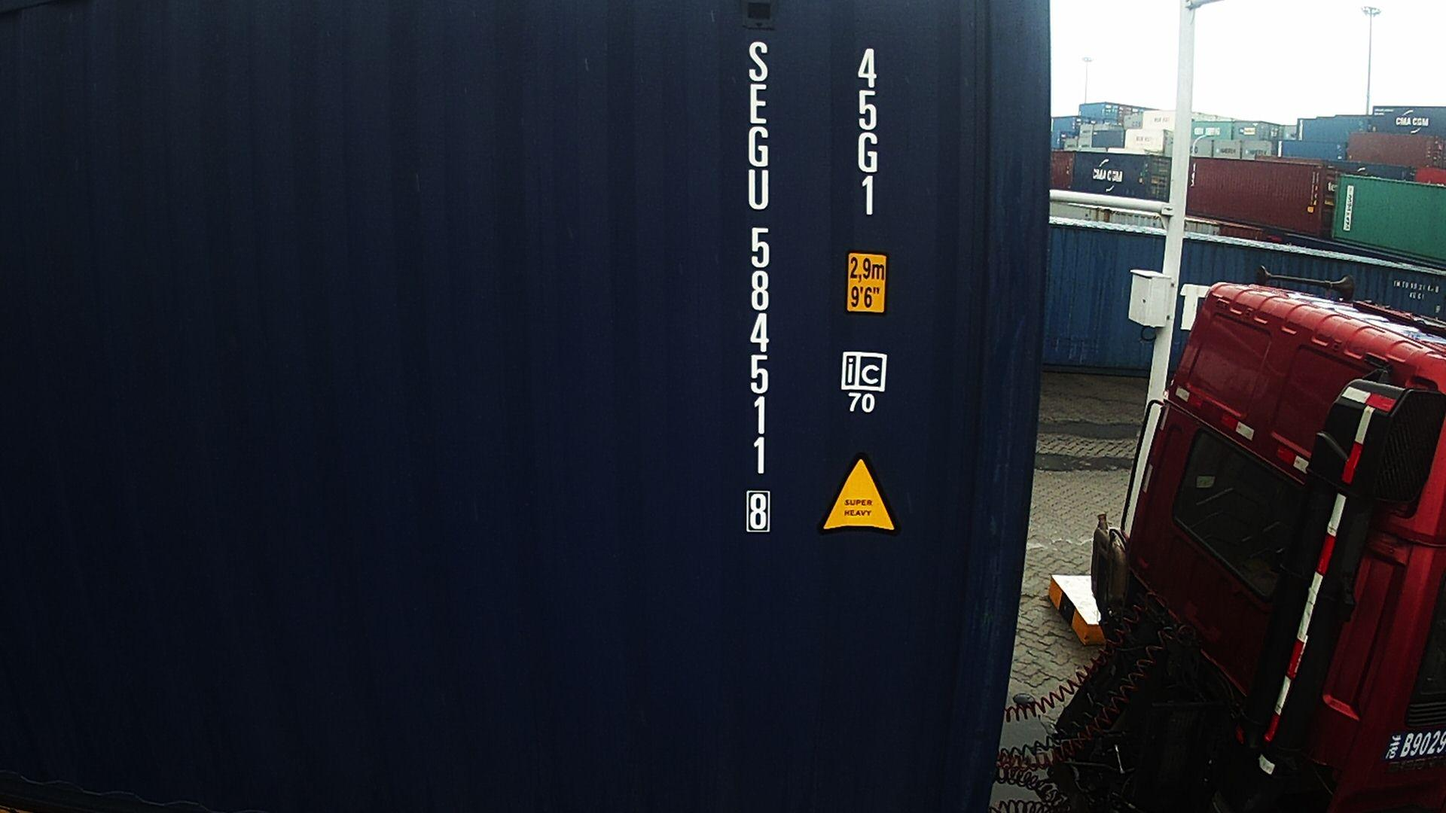container-numbers: (737, 36, 781, 543), (849, 41, 886, 222)
